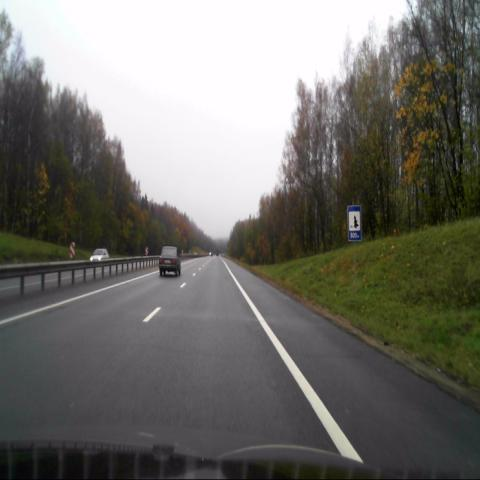7_11: (348, 205, 362, 241)
